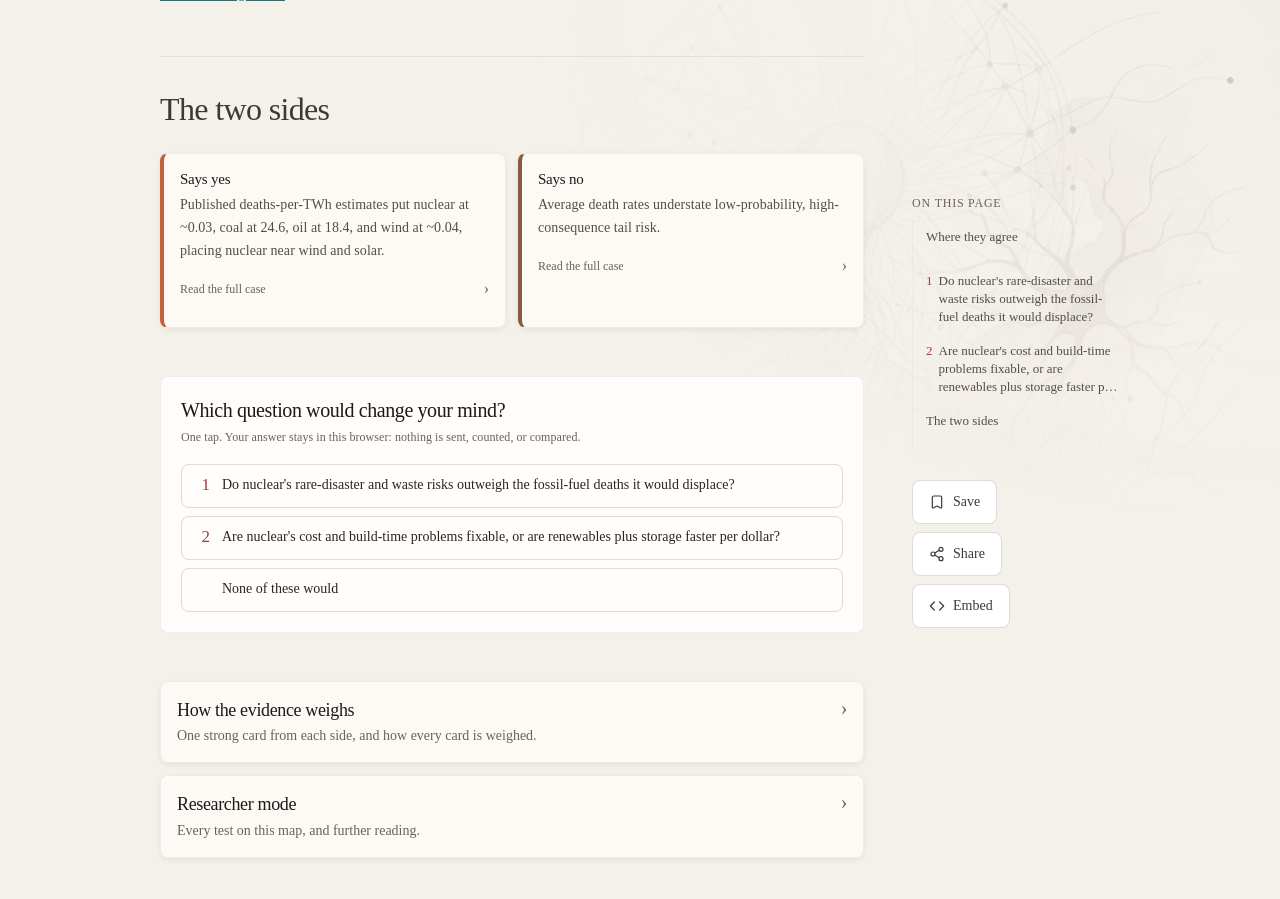
Test case: the one-tap reflection › after a tap, shows the other side's best card: one per side, never a weight
(page scrolled)
Click the 1st button at {"x": 512, "y": 486}, box 181,464 -> 843,508
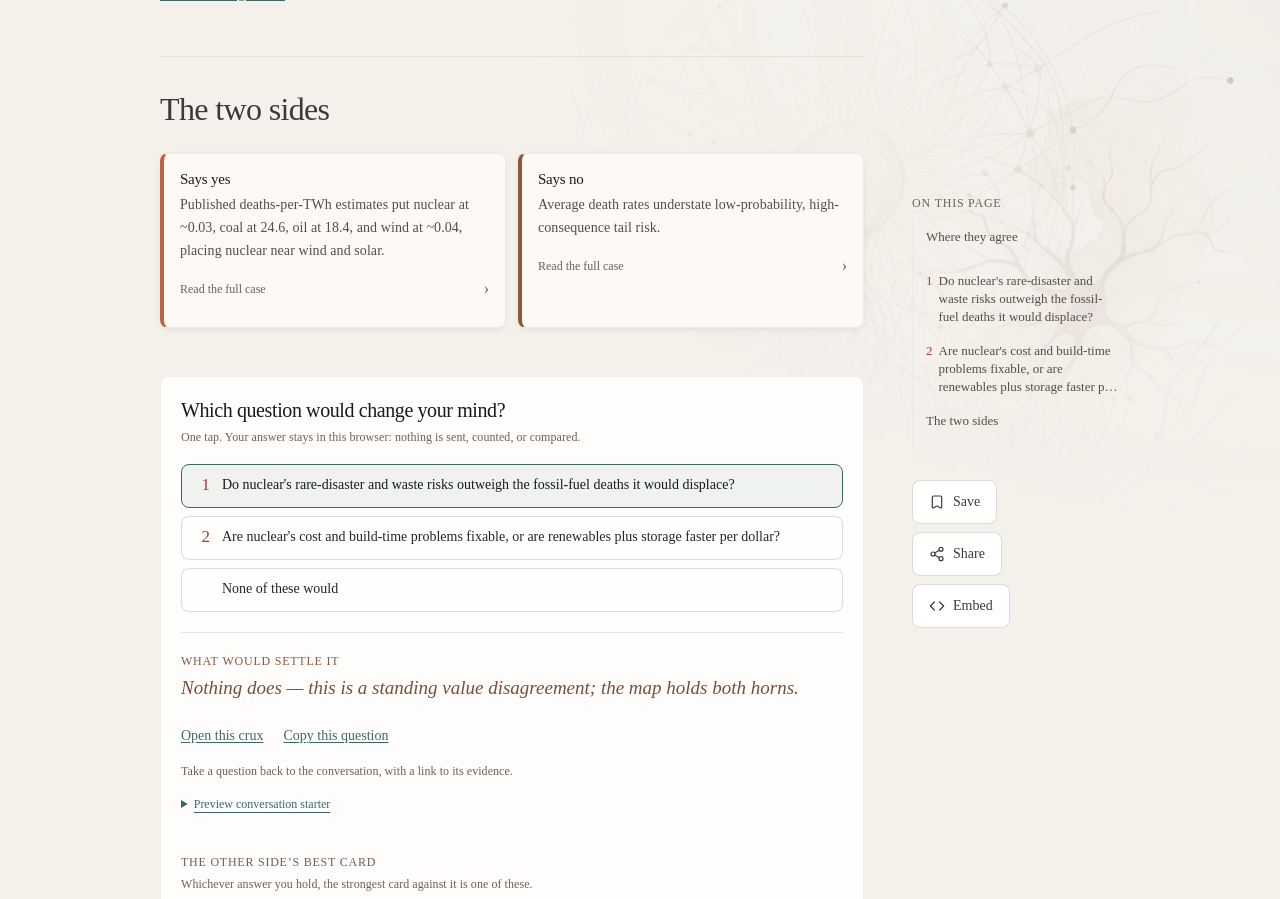
Check: the heading "The other side’s best card" is shown, box 181,851 -> 376,870
